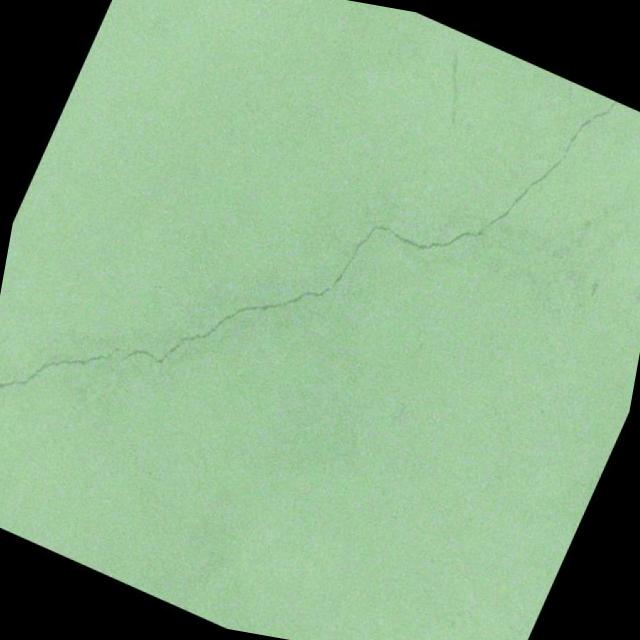crack: (0, 0, 626, 640), (428, 55, 481, 128), (558, 79, 582, 110)
